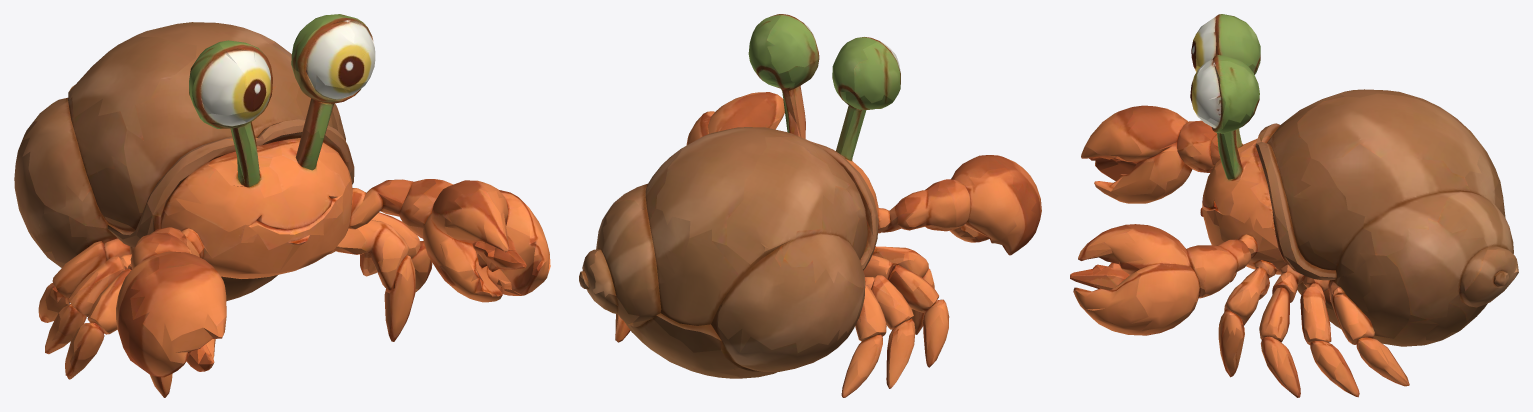
File: pet_pip.glb
3 renders of one model, left to right at view 1: azimuth 30°, elevation 25°; view 2: azimuth 150°, elevation 25°; view 3: azimuth 270°, elevation 25°, orthographic. The views are drawn at different scales.
Size of the model in its own units: 1.72 by 1.37 by 1.9.
1 material, 1 textured.
